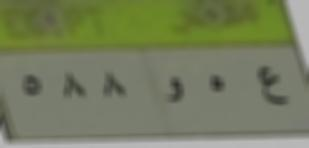5: (19, 68, 45, 104)
8: (100, 67, 132, 110), (58, 68, 87, 102)
ain: (255, 61, 291, 108)
haa: (207, 71, 229, 99)
waw: (158, 71, 187, 112)
